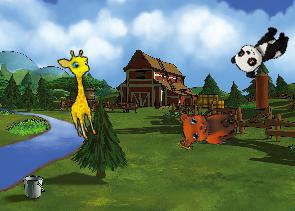bear: (174, 96, 242, 154)
giraffe: (55, 47, 108, 141)
panda: (228, 19, 294, 82)
